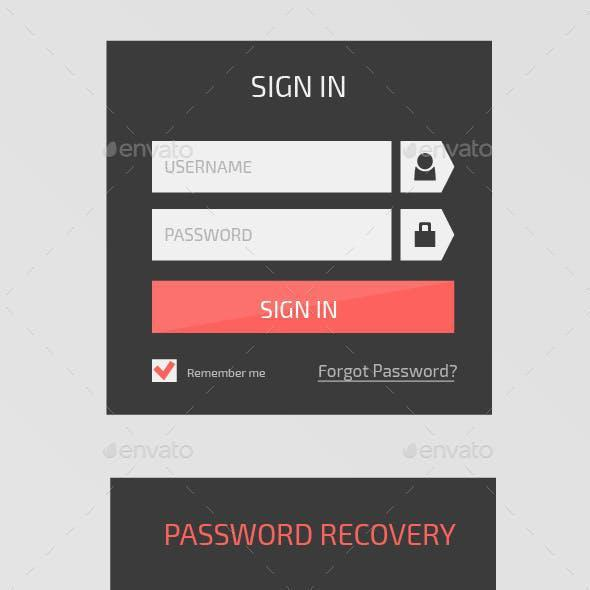button: (153, 281, 456, 335)
checkbox: (152, 358, 179, 385)
icon: (401, 209, 457, 262), (402, 142, 456, 193)
input: (152, 141, 393, 194), (153, 211, 392, 261)
label: (187, 362, 270, 386)
